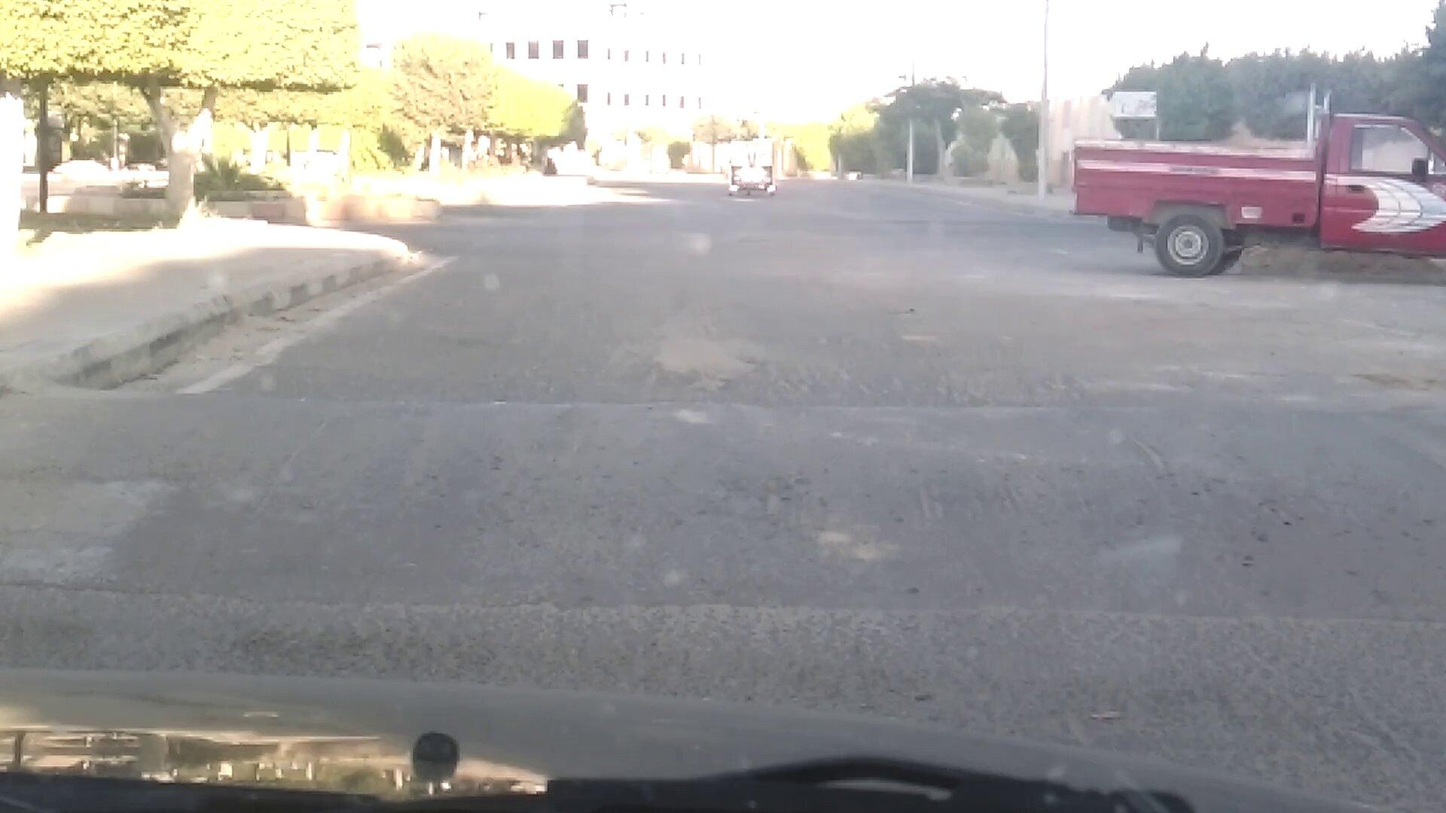Bump: (38, 397, 1446, 636)
